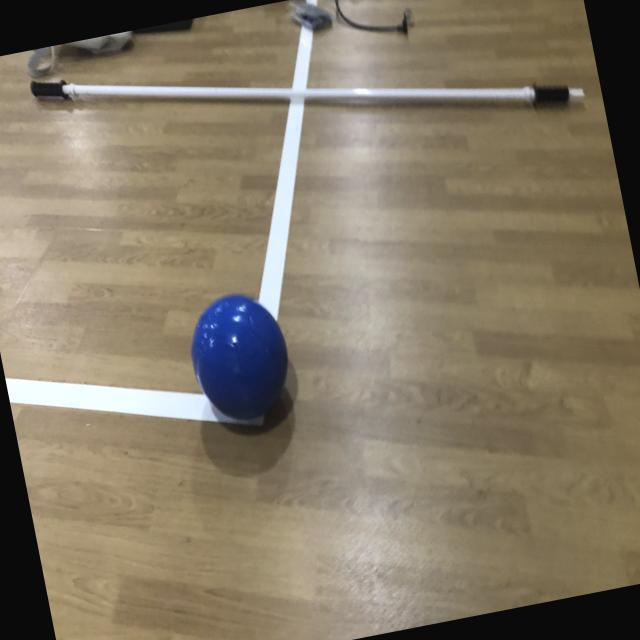blue_ball: (182, 287, 300, 428)
